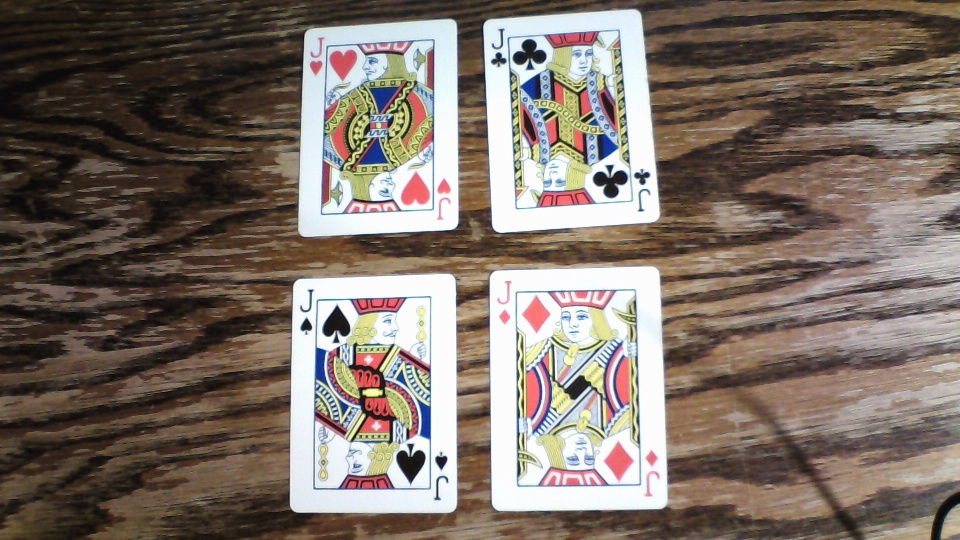jack: (488, 263, 668, 510), (287, 270, 457, 515), (479, 9, 663, 233), (297, 18, 459, 237)
